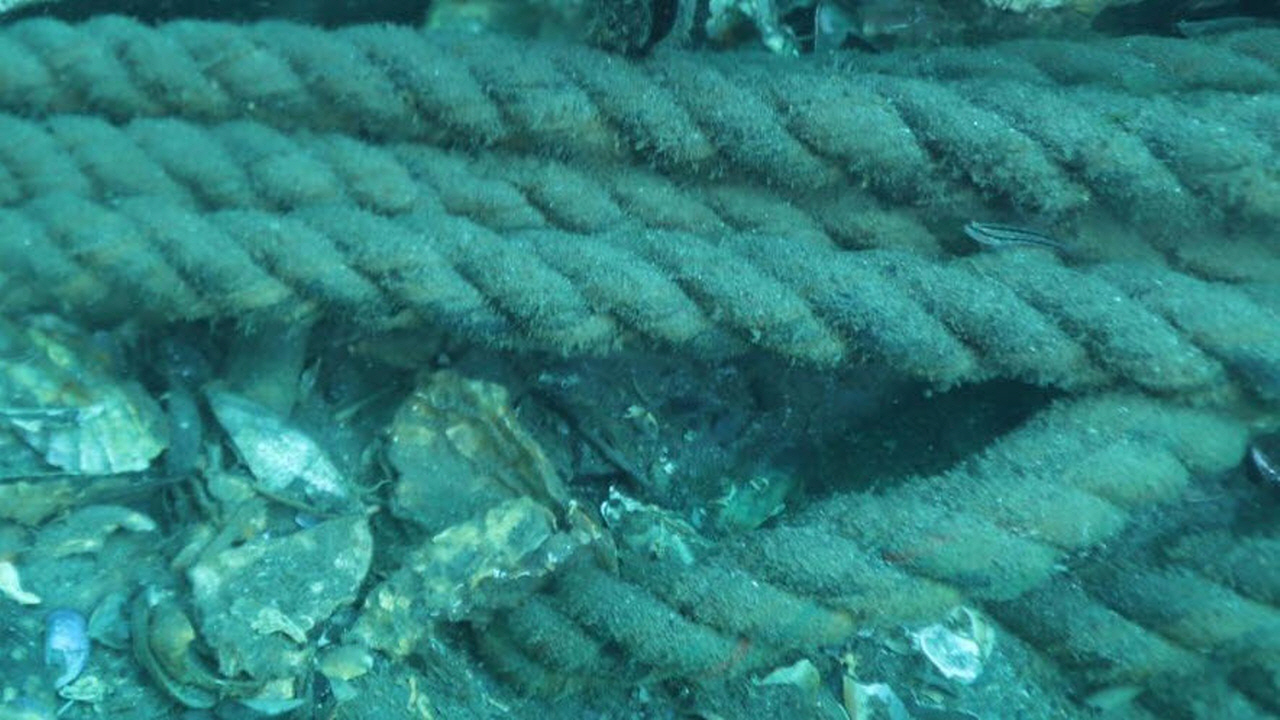bundle of ropes: (0, 9, 1280, 720)
